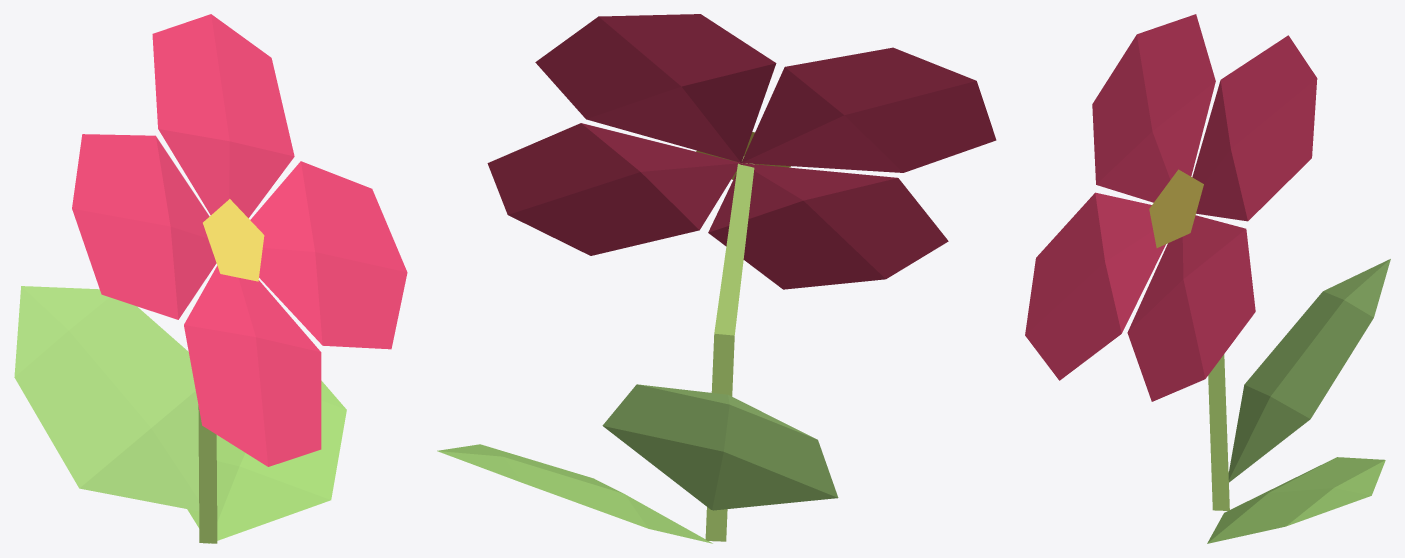
Rendered from Flower_c_OneS_16.fbx.
3 views of the same model, side by side, from view 1: azimuth 30°, elevation 25°; view 2: azimuth 150°, elevation 25°; view 3: azimuth 270°, elevation 25° (orthographic). The views are drawn at different scales.
Visible parts, largest first — view 1: Flower_c_OneS_16; view 2: Flower_c_OneS_16; view 3: Flower_c_OneS_16.
Boxes of the visible parts, x1,y1,x2,y2 form: Flower_c_OneS_16: [14, 14, 407, 543]; Flower_c_OneS_16: [437, 14, 996, 543]; Flower_c_OneS_16: [1025, 14, 1390, 543].
Bounding box in the file's own units: 28.78 × 36.32 × 25.78.
